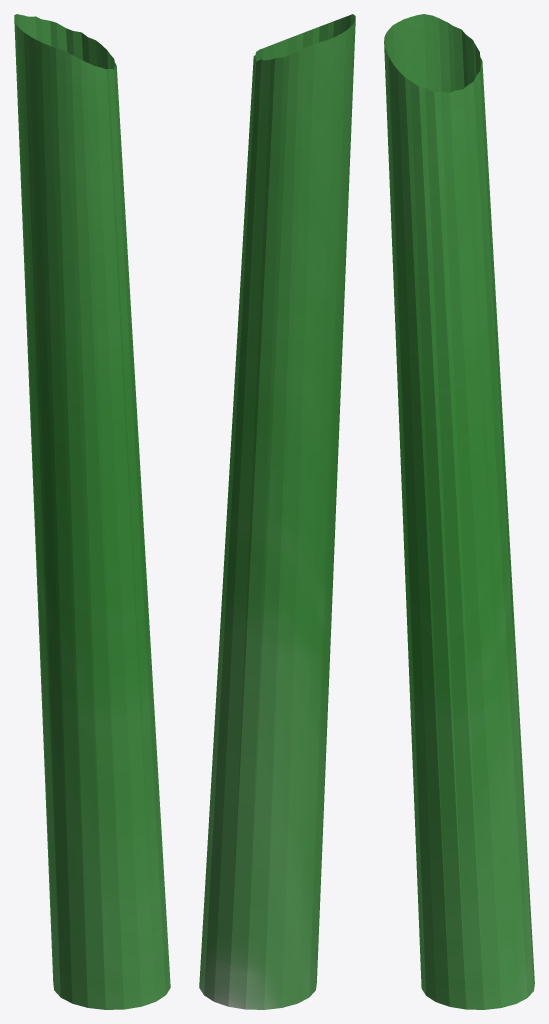
The model's file is flower1_eat.dae.
3 views of the same model, side by side, from view 1: azimuth 30°, elevation 25°; view 2: azimuth 150°, elevation 25°; view 3: azimuth 330°, elevation 25° (orthographic). The views are drawn at different scales.
Visible parts, largest first — view 1: flowerpot1_polySurface2; view 2: flowerpot1_polySurface2; view 3: flowerpot1_polySurface2.
Boxes of the visible parts, x1,y1,x2,y2 form: flowerpot1_polySurface2: (14, 14, 170, 1009); flowerpot1_polySurface2: (199, 14, 355, 1009); flowerpot1_polySurface2: (384, 14, 534, 1009).
Size of the model in its own units: 0.0734 by 0.4907 by 0.0539.
